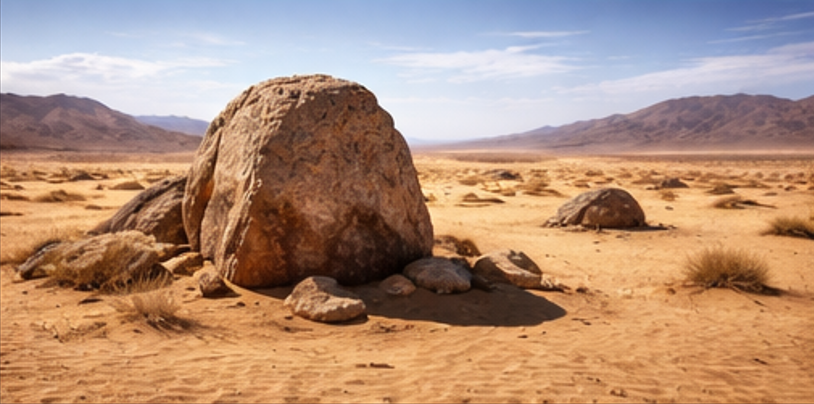rocks: (183, 74, 430, 285), (16, 230, 176, 287), (89, 175, 185, 243), (472, 249, 566, 289), (283, 276, 364, 320), (545, 188, 644, 224), (472, 249, 541, 287), (403, 257, 470, 293), (378, 274, 415, 295)
